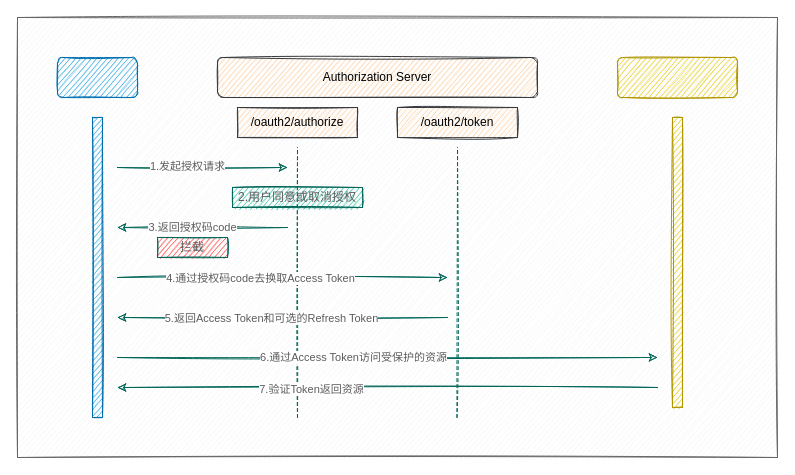
Some shapes in this 795 by 475 pixel diagram are drawn without their labels. Here are the shapes that lost their labels. From the top down, the centre of each, then its label:
the point at 97,77: Client
the point at 677,77: Resource Server
